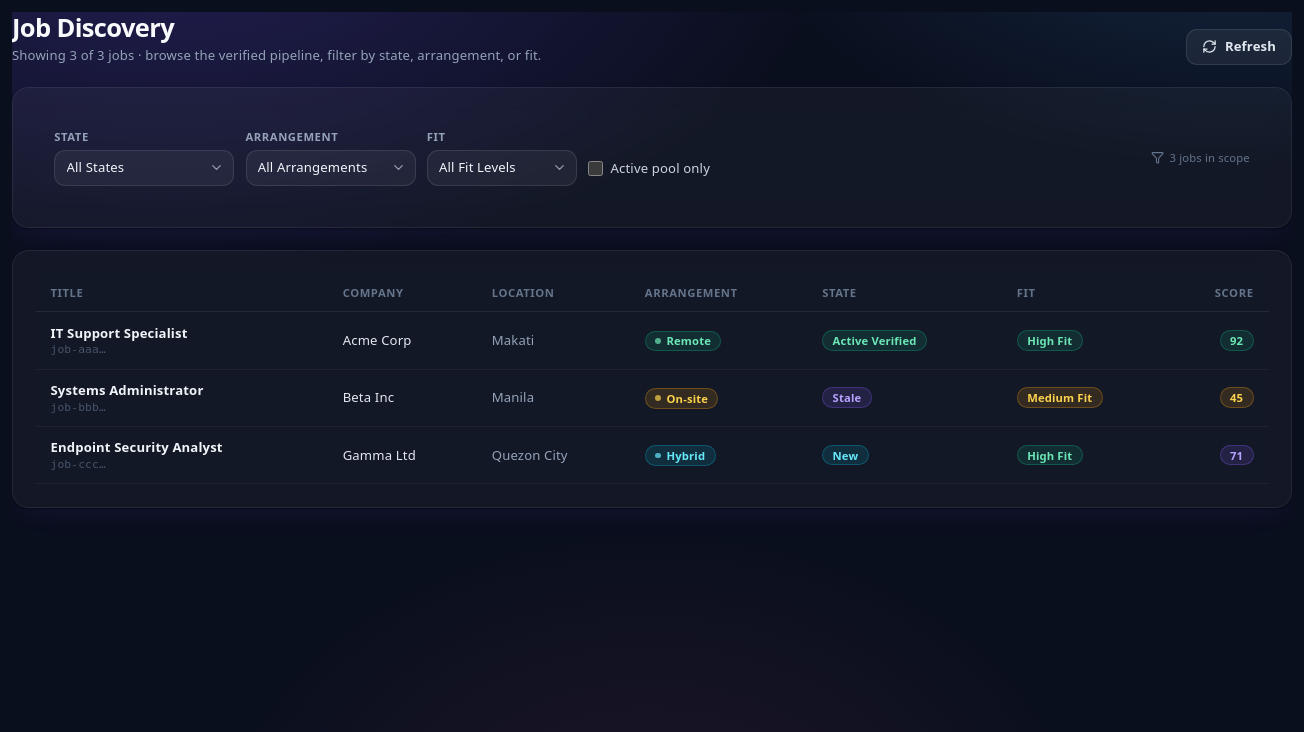
Scenario: Jobs › filters by fit level
This screenshot has width=1304, height=732.
Step 1. Select "Medium" in the dropdown labelled "Fit" → (502, 168), box [427,150,577,186]
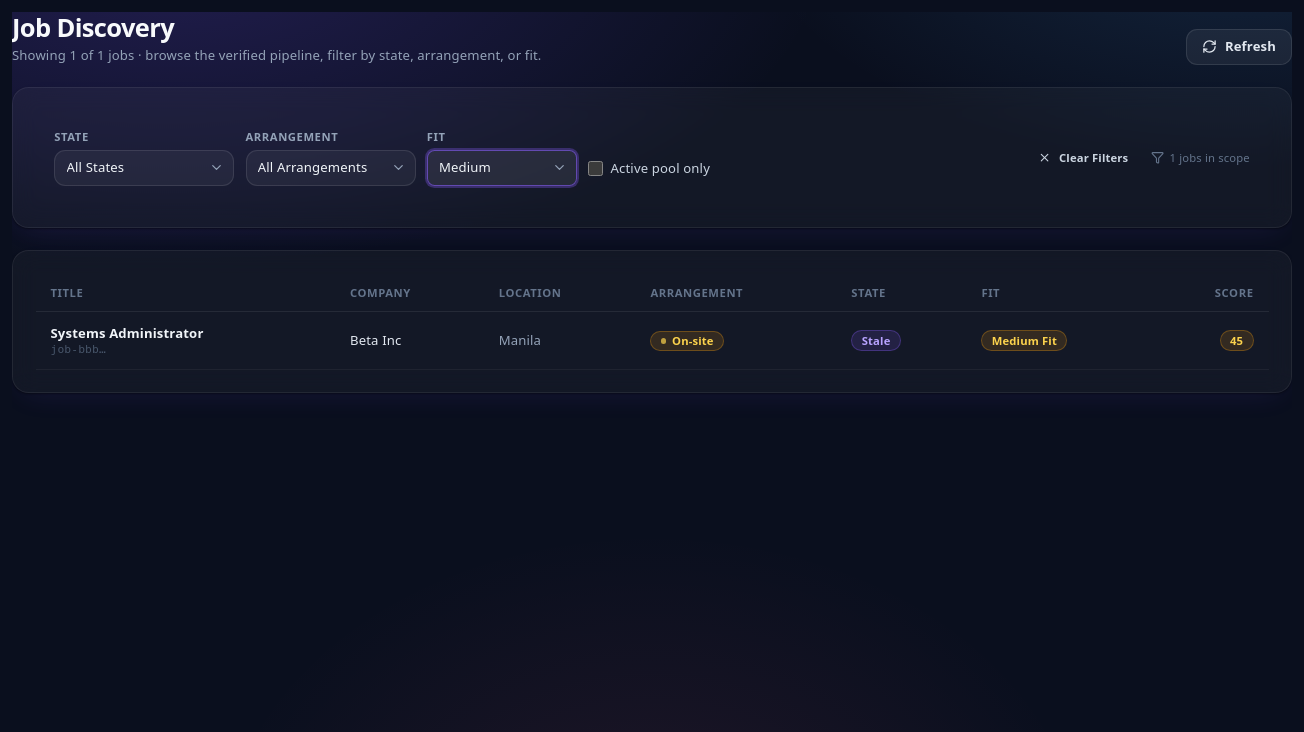
Expected: the link "Systems Administrator" is shown, [50,324,204,342]
Now the text "Showing 1 of 1 jobs" is shown, box [12,46,134,64]
Now the link "IT Support Specialist" is gone
